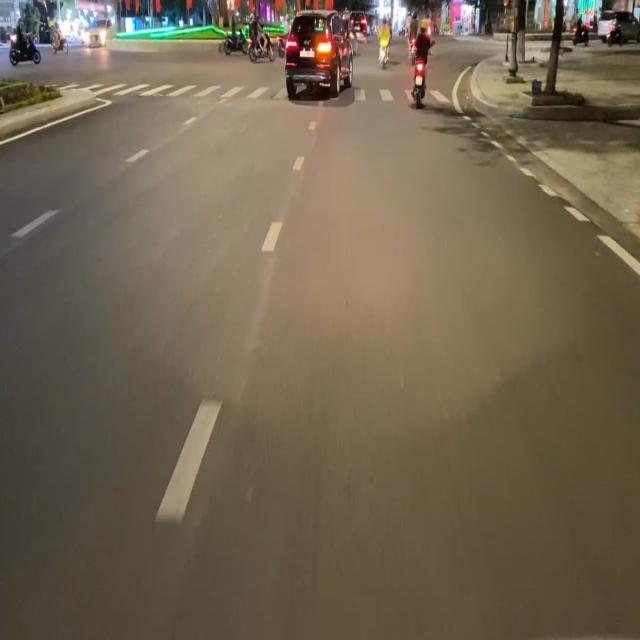walk-crossing: (102, 77, 450, 103)
